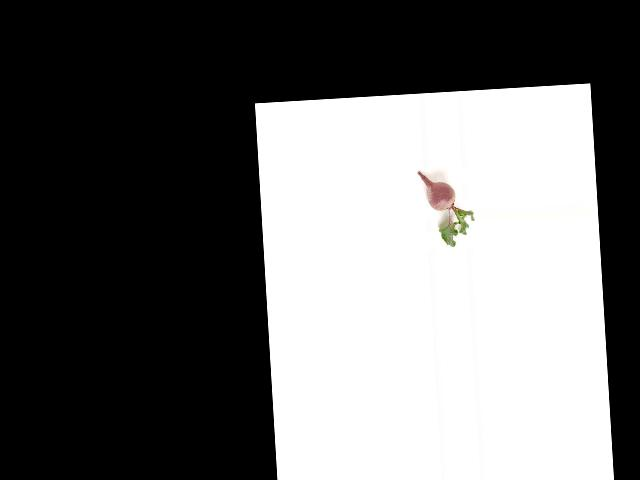beet: (417, 168, 476, 249)
